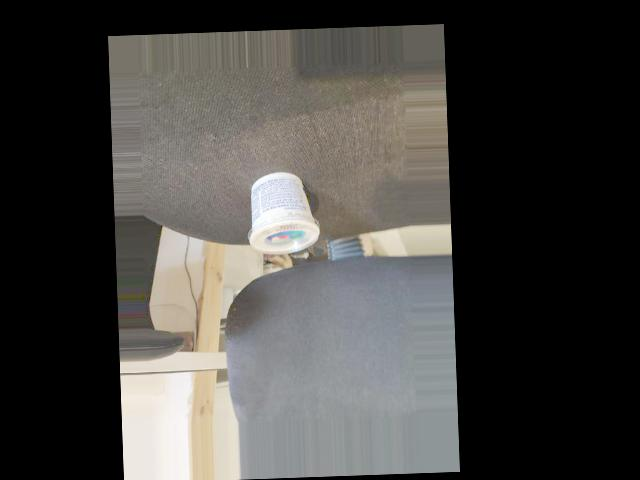cotage: (253, 170, 318, 260)
